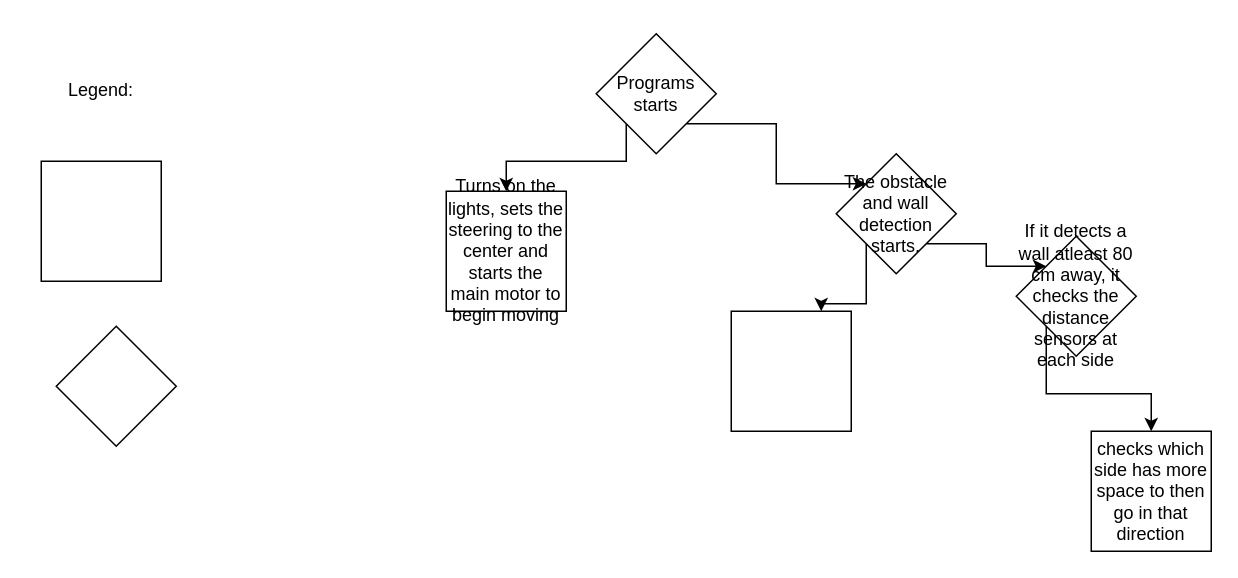
Some shapes in this 1238 by 578 pixel diagram are drawn without their labels. Each missing label, with the centre of its shape:
A diamond means that it may lead to more than one thing happening: (x=115, y=385)
Based on the color of the obstacle, it decides what direction to go around it: (x=790, y=370)
Squares mean it executes once and never again: (x=100, y=220)
